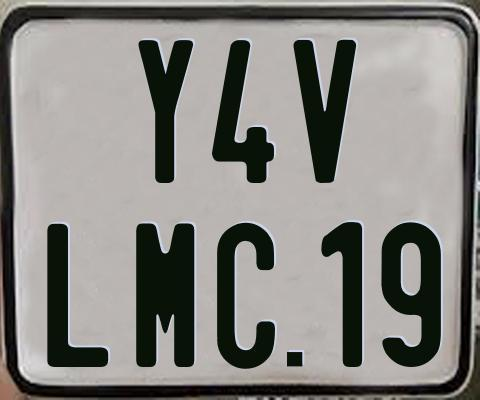1: (318, 221, 361, 371)
4: (212, 38, 279, 181)
9: (380, 220, 440, 370)
C: (217, 223, 275, 373)
L: (44, 221, 110, 366)
M: (134, 221, 193, 369)
V: (292, 40, 361, 186)
Y: (138, 39, 196, 182)
